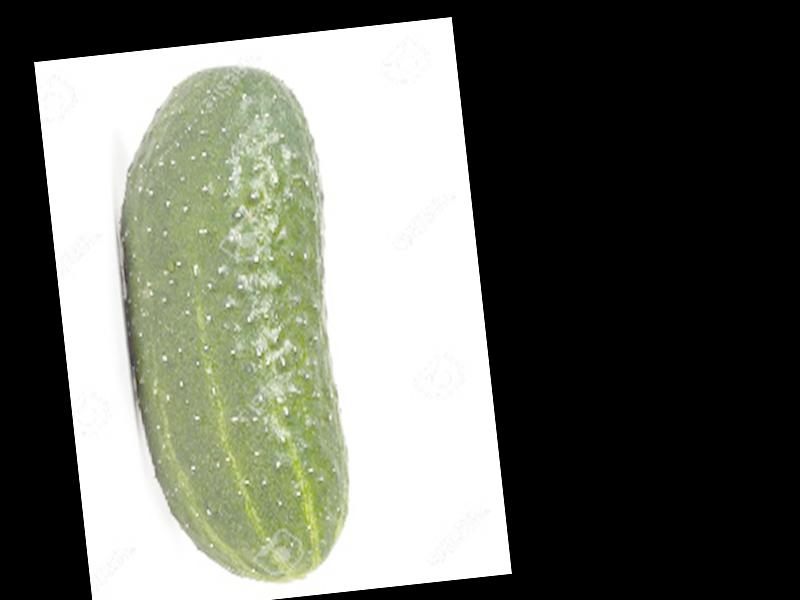Cucumber: (100, 57, 359, 596)
